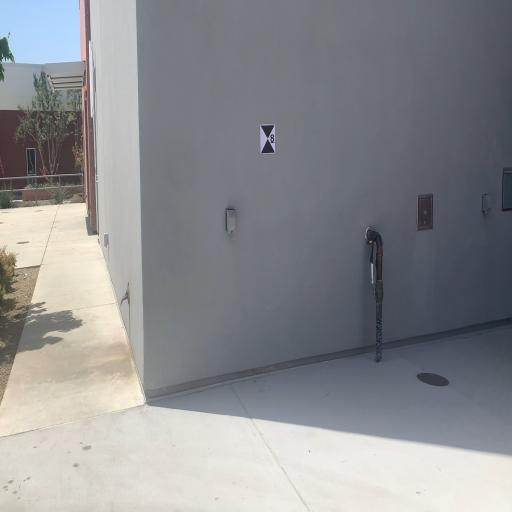target8: (261, 124, 277, 156)
